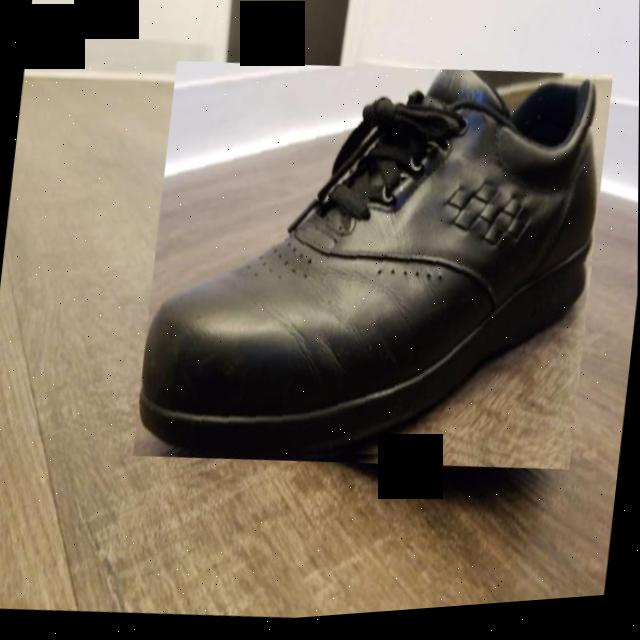shoe: (133, 38, 613, 504)
